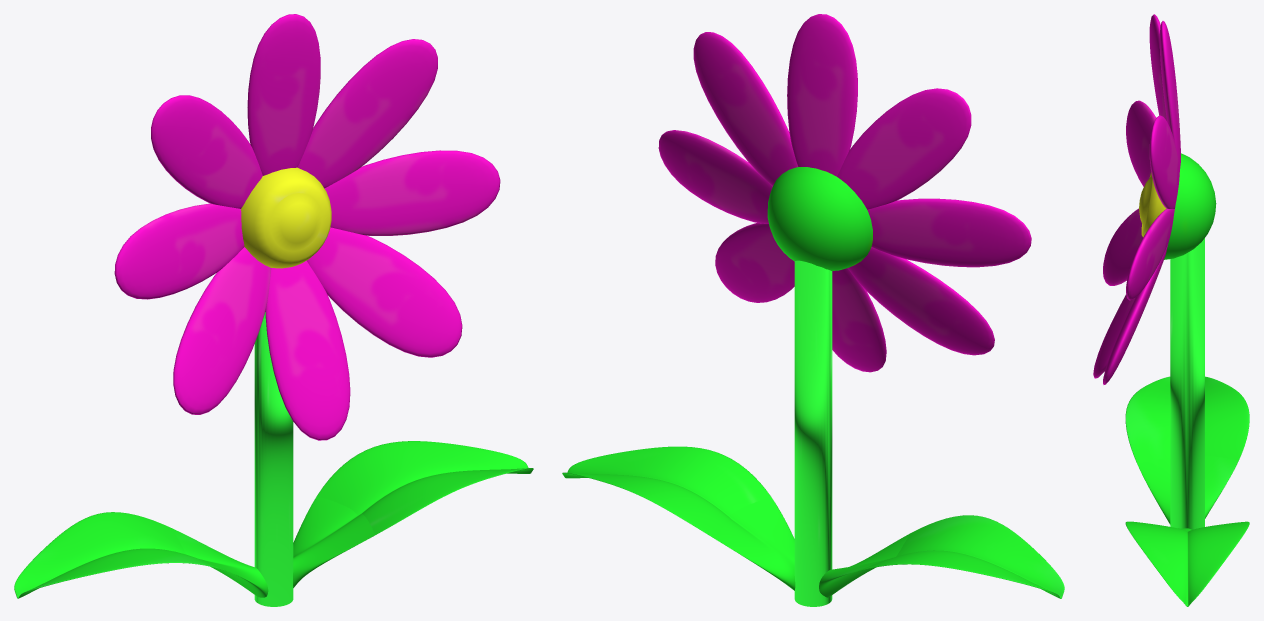
3 views of the same model, side by side, from view 1: azimuth 30°, elevation 25°; view 2: azimuth 150°, elevation 25°; view 3: azimuth 270°, elevation 25° (orthographic). The views are drawn at different scales.
Parts seen in each view (by area): view 1: 平面, Cube.007, Cube, Cube.006, Cube.001, Cube.005, 平面.001, Cube.002, 円柱, Cube.004, Cube.003, 球; view 2: 平面, 円柱, Cube.003, Cube.002, Cube.004, 平面.001, 球.001, Cube.001, Cube.005, Cube, Cube.007, Cube.006; view 3: 円柱, 平面.001, 平面, 球.001, Cube.001, Cube, Cube.005, Cube.004, Cube.002, Cube.007, Cube.006, Cube.003 (+1 smaller).
Part boxes in pixels (x1,y1,x2,y2): 平面: (293,441,533,587); Cube.007: (306,227,462,357); Cube: (324,150,500,235); Cube.006: (265,261,350,440); Cube.001: (297,39,437,188); Cube.005: (173,247,271,414); 平面.001: (14,512,268,598); Cube.002: (247,14,320,175); 円柱: (254,312,293,606); Cube.004: (114,203,244,299); Cube.003: (151,95,262,208); 球: (241,167,331,268); 平面: (562,446,795,590); 円柱: (794,260,832,606); Cube.003: (837,88,971,209); Cube.002: (787,14,857,176); Cube.004: (867,198,1031,267); 平面.001: (819,515,1064,598); 球.001: (767,167,872,270); Cube.001: (693,32,797,185); Cube.005: (848,247,994,355); Cube: (658,130,772,223); Cube.007: (715,223,794,302); Cube.006: (832,268,886,372); 円柱: (1170,238,1204,529); 平面.001: (1125,376,1249,524); 平面: (1125,521,1249,606); 球.001: (1164,153,1216,259); Cube.001: (1149,115,1179,208); Cube: (1126,209,1174,300); Cube.005: (1103,208,1142,285); Cube.004: (1126,100,1155,186); Cube.002: (1159,21,1180,171); Cube.007: (1103,244,1167,384); Cube.006: (1093,294,1135,378); Cube.003: (1149,14,1166,120).
Bounding box in the file's own units: 1.17 × 1.29 × 0.3468.
1 material, 1 textured.
